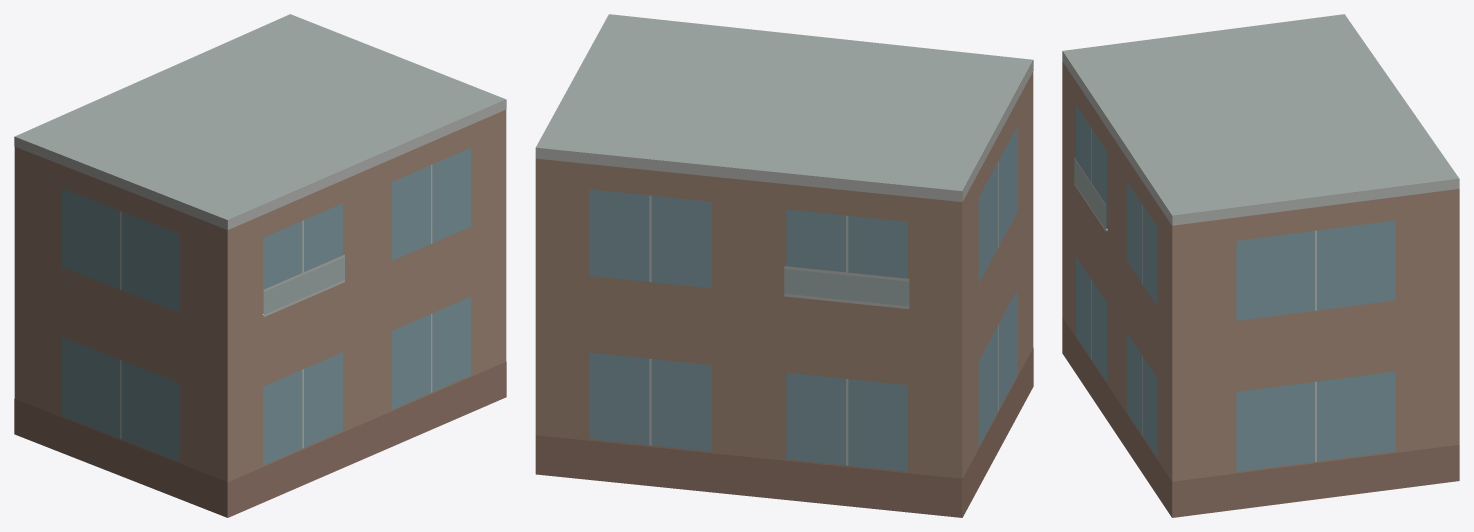
Rendered from survey-upis-32622823.glb.
3 views of the same model, side by side, from view 1: azimuth 30°, elevation 25°; view 2: azimuth 150°, elevation 25°; view 3: azimuth 270°, elevation 25° (orthographic). The views are drawn at different scales.
Visible parts, largest first — view 1: survey-upis-32622823.tmp; view 2: survey-upis-32622823.tmp; view 3: survey-upis-32622823.tmp.
Part boxes in pixels (x1,y1,x2,y2): survey-upis-32622823.tmp: (14,14,506,517); survey-upis-32622823.tmp: (535,14,1033,517); survey-upis-32622823.tmp: (1062,14,1459,517).
Size of the model in its own units: 10.46 by 7.3 by 8.71.
